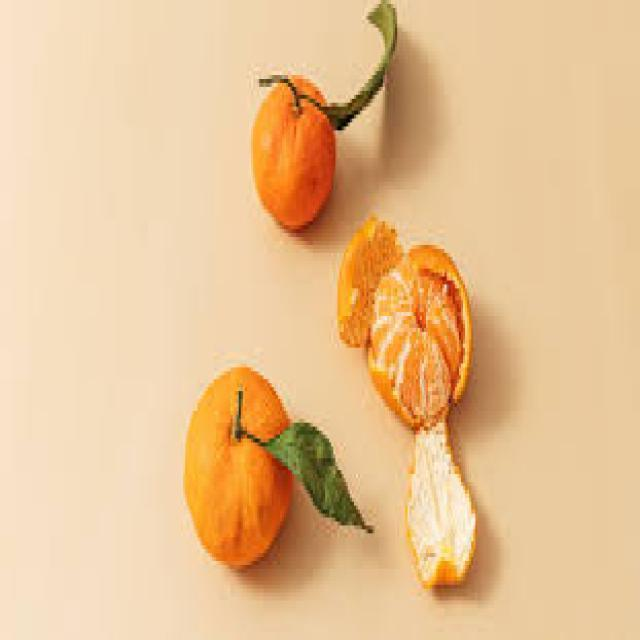non-mango: (182, 364, 295, 568), (249, 74, 336, 231)
